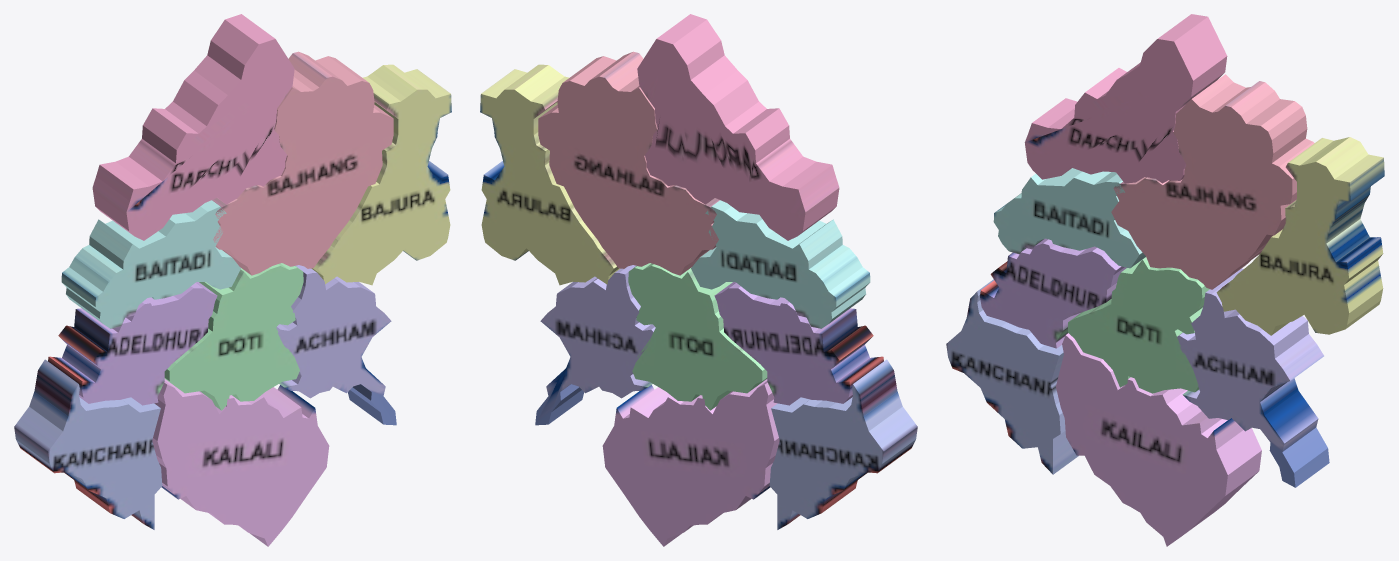
The model's file is prades7textured.fbx.
3 renders of one model, left to right at view 1: azimuth 30°, elevation 25°; view 2: azimuth 150°, elevation 25°; view 3: azimuth 330°, elevation 25°, orthographic.
Parts seen in each view (by area): view 1: Cube.003, Cube.002, Cube.008, Cube.001, Cube.009, Cube.004, Cube.006, Cube.005, Cube.007; view 2: Cube.003, Cube.002, Cube.008, Cube.001, Cube.009, Cube.004, Cube.006, Cube.005, Cube.007; view 3: Cube.002, Cube.008, Cube.001, Cube.003, Cube.007, Cube.006, Cube.009, Cube.005, Cube.004.
Boxes of the visible parts, <box> form: Cube.003: <box>92,14,294,240</box>; Cube.002: <box>212,51,393,275</box>; Cube.008: <box>152,379,329,546</box>; Cube.001: <box>311,64,451,285</box>; Cube.009: <box>14,359,162,529</box>; Cube.004: <box>61,200,240,328</box>; Cube.006: <box>164,263,303,410</box>; Cube.005: <box>48,282,217,405</box>; Cube.007: <box>276,265,396,425</box>; Cube.003: <box>637,14,839,240</box>; Cube.002: <box>538,51,719,275</box>; Cube.008: <box>602,379,779,546</box>; Cube.001: <box>480,64,620,285</box>; Cube.009: <box>769,359,917,529</box>; Cube.004: <box>691,200,870,328</box>; Cube.006: <box>628,263,767,410</box>; Cube.005: <box>714,282,883,405</box>; Cube.007: <box>535,265,655,425</box>; Cube.002: <box>1111,74,1314,289</box>; Cube.008: <box>1056,333,1261,546</box>; Cube.001: <box>1216,137,1384,335</box>; Cube.003: <box>1024,14,1227,183</box>; Cube.007: <box>1177,268,1329,487</box>; Cube.006: <box>1068,257,1209,393</box>; Cube.009: <box>946,279,1078,474</box>; Cube.005: <box>980,238,1126,348</box>; Cube.004: <box>993,168,1145,268</box>.
Size of the model in its own units: 103 by 123 by 15.
